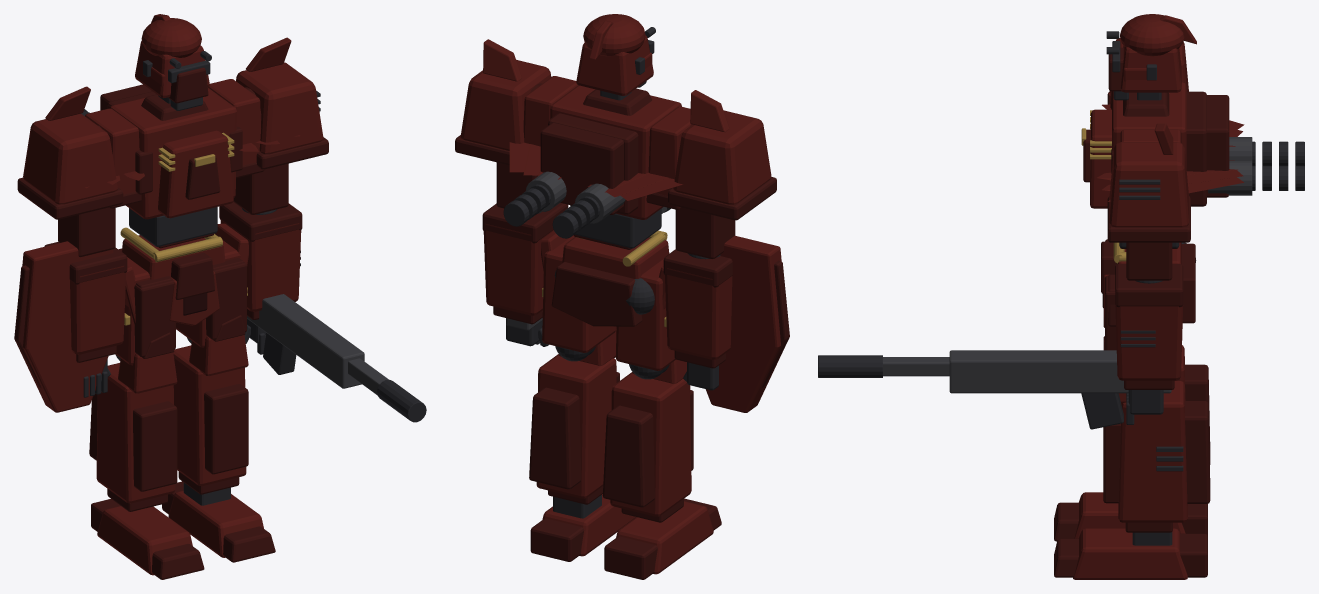
The model's file is sazabi.glb.
3 views of the same model, side by side, from view 1: azimuth 30°, elevation 25°; view 2: azimuth 150°, elevation 25°; view 3: azimuth 270°, elevation 25° (orthographic). The views are drawn at different scales.
Parts seen in each view (by area): view 1: shield_main, pauldron_mirror, calf_mirror, pauldron, rifle_body, calf, chest_core, forearm_mirror, chest_front, shin_mirror, shin, foot_mirror (+40 smaller); view 2: shield_main, pauldron_mirror, calf_mirror, calf, forearm_mirror, pauldron, pack_body, calf_rear_mirror, calf_rear, forearm, skirt_rear, chest_core (+40 smaller); view 3: rifle_body, calf, pauldron, foot, forearm, calf_rear, forearm_cuff, helmet, helmet_dome, back_pack, chest_core, pack_body (+19 smaller).
Boxes of the visible parts, box(x1,y1,x2,y2) form: shield_main: box(20, 241, 113, 412); pauldron_mirror: box(23, 113, 117, 204); calf_mirror: box(96, 363, 175, 503); pauldron: box(236, 62, 323, 154); rifle_body: box(247, 294, 364, 388); calf: box(173, 345, 246, 485); chest_core: box(110, 88, 236, 219); forearm_mirror: box(70, 266, 125, 354); chest_front: box(158, 130, 233, 218); shin_mirror: box(133, 401, 177, 491); shin: box(204, 384, 248, 474); foot_mirror: box(97, 506, 192, 575); shield_main: box(705, 235, 785, 412); pauldron_mirror: box(673, 110, 771, 204); calf_mirror: box(610, 372, 691, 516); calf: box(536, 354, 616, 498); forearm_mirror: box(665, 268, 732, 359); pauldron: box(460, 59, 551, 150); pack_body: box(540, 122, 623, 214); calf_rear_mirror: box(602, 405, 654, 507); calf_rear: box(529, 387, 581, 489); forearm: box(483, 224, 553, 315); skirt_rear: box(551, 262, 642, 326); chest_core: box(550, 85, 681, 219); rifle_body: box(949, 350, 1171, 393); calf: box(1118, 380, 1187, 522); pauldron: box(1109, 142, 1189, 227); foot: box(1073, 528, 1187, 579); forearm: box(1115, 305, 1183, 380); calf_rear: box(1185, 401, 1210, 503); forearm_cuff: box(1115, 264, 1183, 307); helmet: box(1120, 45, 1181, 92); helmet_dome: box(1120, 14, 1184, 56); back_pack: box(1186, 91, 1206, 206); chest_core: box(1112, 82, 1186, 168); pack_body: box(1206, 95, 1229, 197).
Bounding box in the file's own units: 1.13 × 1.86 × 1.54.
